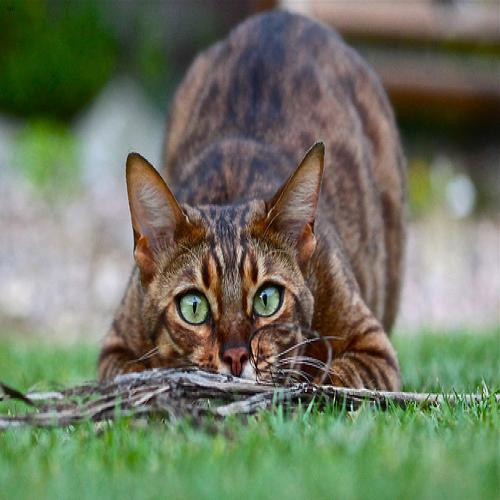bengal: (121, 149, 351, 392)
